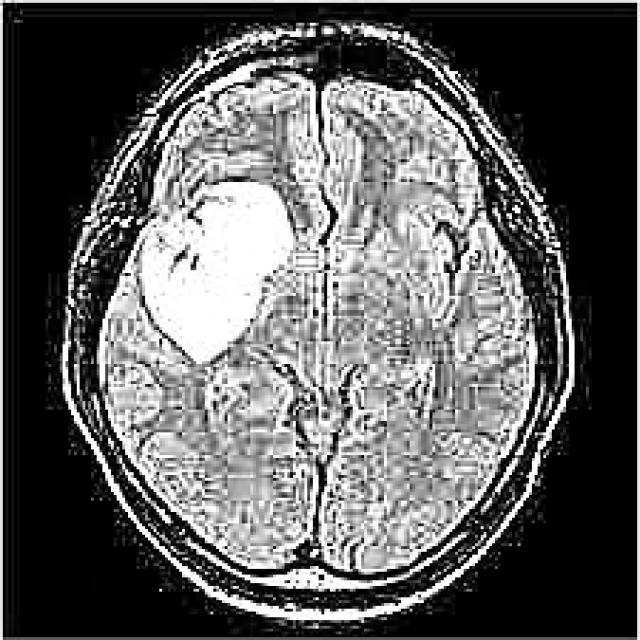Tumor-Cell: (116, 190, 294, 336)
